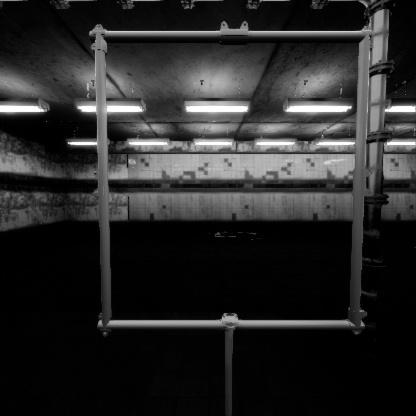gate: (96, 84, 394, 384)
